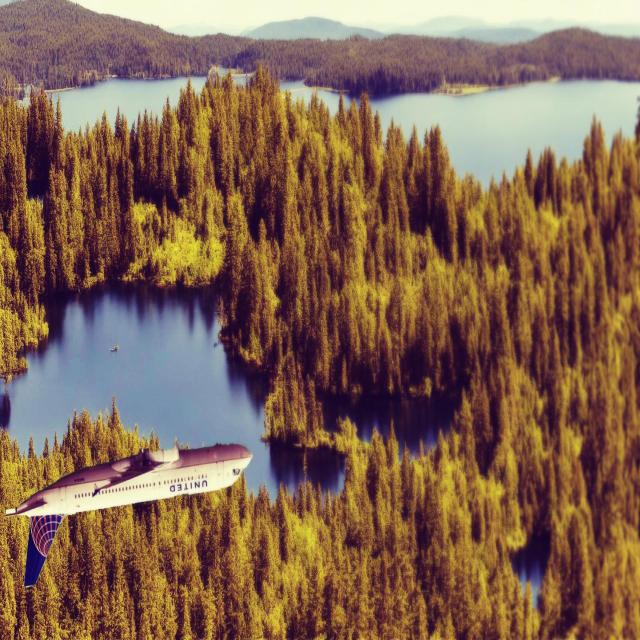airplane: (5, 442, 254, 586)
